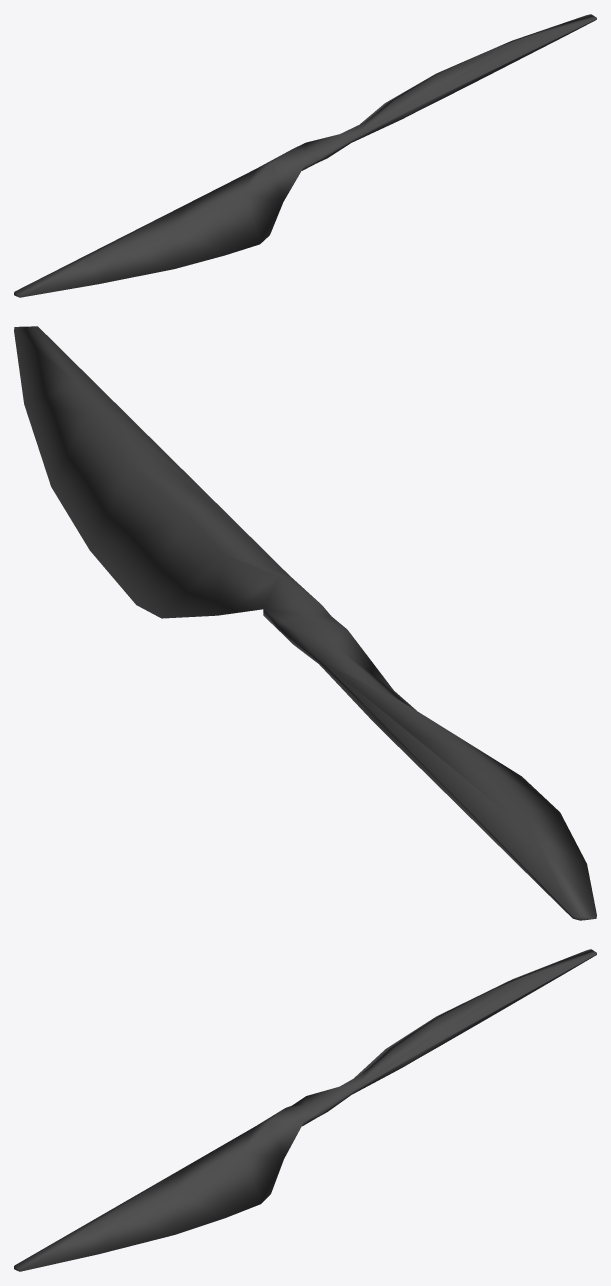
File: navi-14in-CW-tex.dae
3 renders of one model, top to bottom at view 1: azimuth 90°, elevation 25°; view 2: azimuth 150°, elevation 25°; view 3: azimuth 270°, elevation 25°, orthographic. The views are drawn at different scales.
Visible parts, largest first — view 1: 14inch_prop_low.001_15inch_prop.002; view 2: 14inch_prop_low.001_15inch_prop.002; view 3: 14inch_prop_low.001_15inch_prop.002.
Boxes of the visible parts, x1,y1,x2,y2 form: 14inch_prop_low.001_15inch_prop.002: (14,14,596,297); 14inch_prop_low.001_15inch_prop.002: (14,326,596,920); 14inch_prop_low.001_15inch_prop.002: (14,949,596,1271).
Bounding box in the file's own units: 0.2833 × 0.2302 × 0.0219.
Materials: 1 (1 with a texture image).
